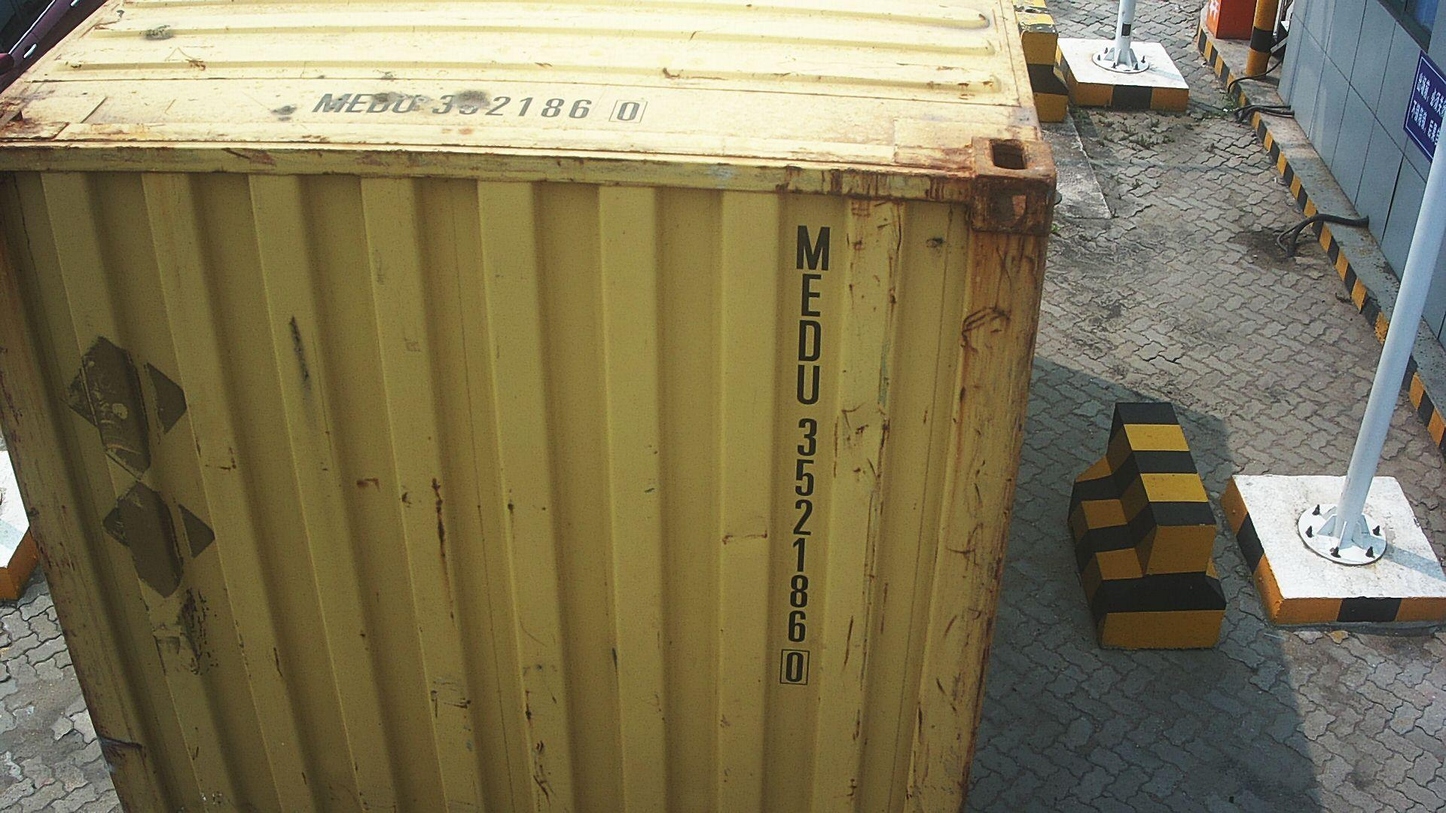container-numbers: (777, 220, 835, 690), (295, 87, 652, 126)
